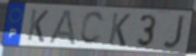3: (135, 14, 157, 48)
A: (47, 8, 77, 46)
C: (78, 10, 106, 47)
J: (161, 14, 186, 51)
K: (107, 12, 132, 48), (25, 8, 50, 44)
